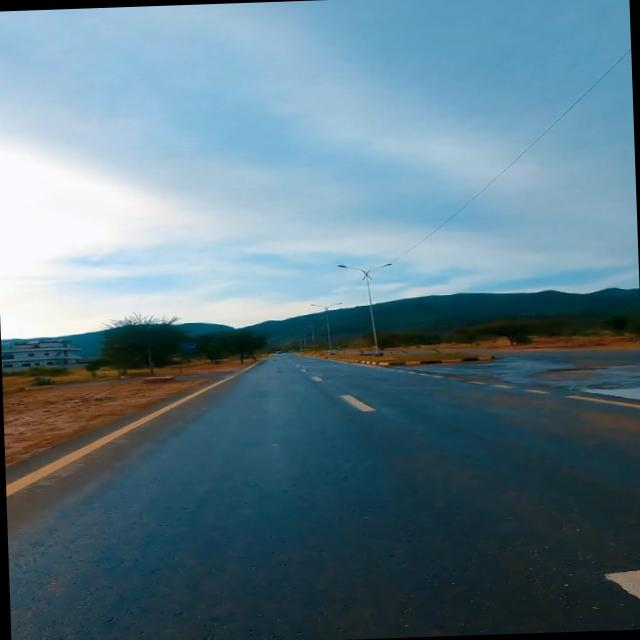asphalt: (6, 355, 640, 640)
